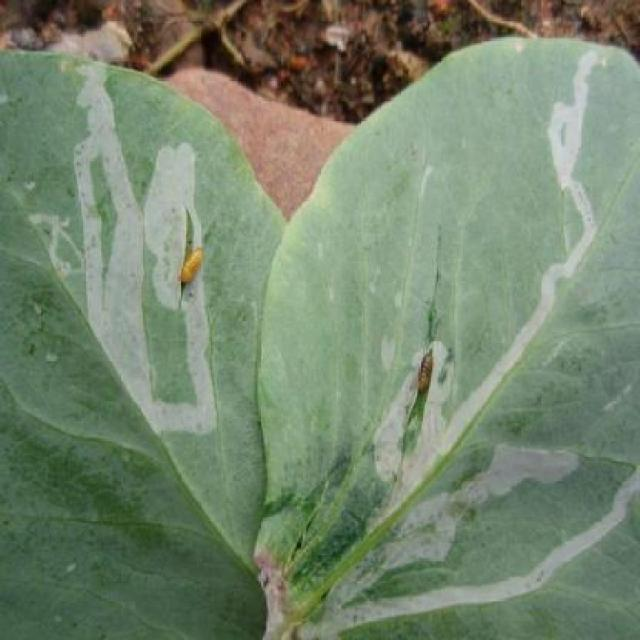whorl-maggot: (175, 242, 208, 298), (414, 343, 437, 402)
